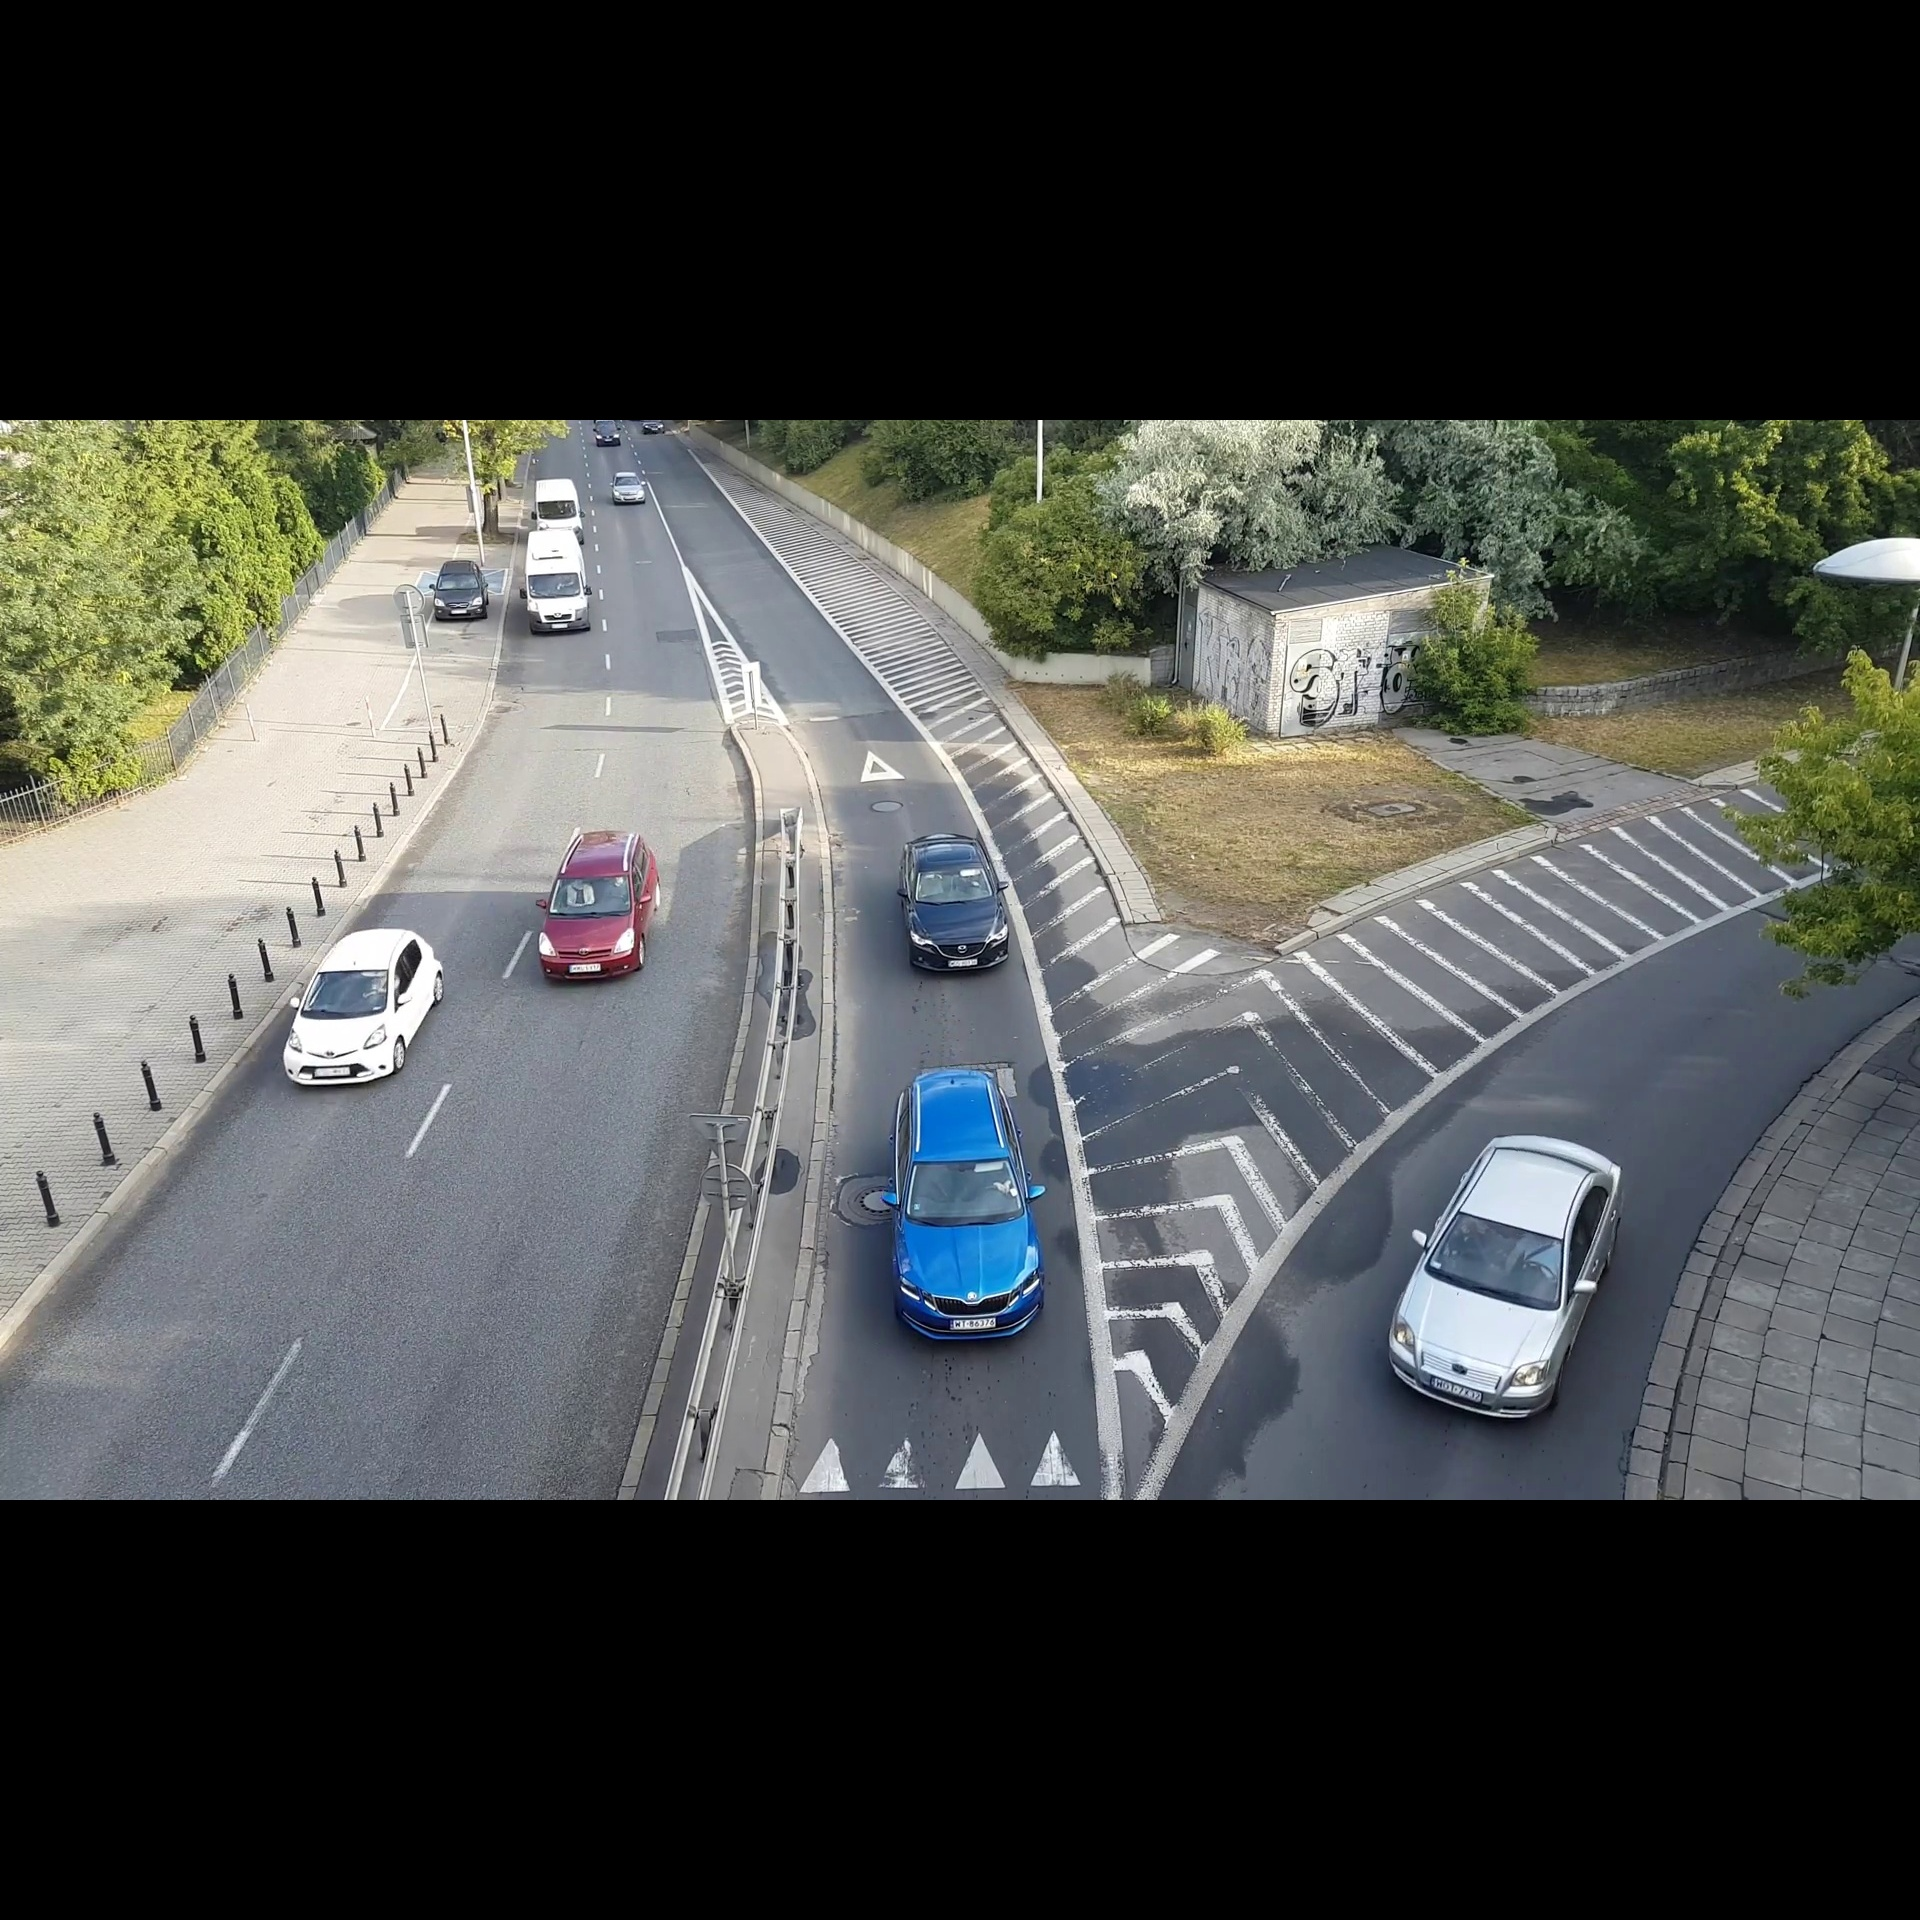vehicle: (1384, 1124, 1632, 1433), (879, 1060, 1057, 1352), (276, 923, 457, 1101), (529, 823, 668, 993), (893, 826, 1015, 990), (520, 533, 593, 642), (431, 556, 498, 626), (529, 471, 587, 527), (607, 468, 649, 508), (593, 420, 622, 448)
